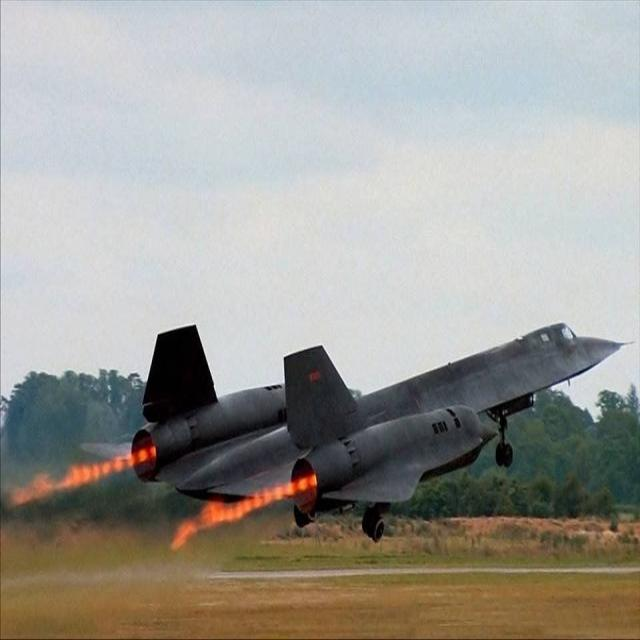MIL_Plane: (79, 322, 637, 544)
